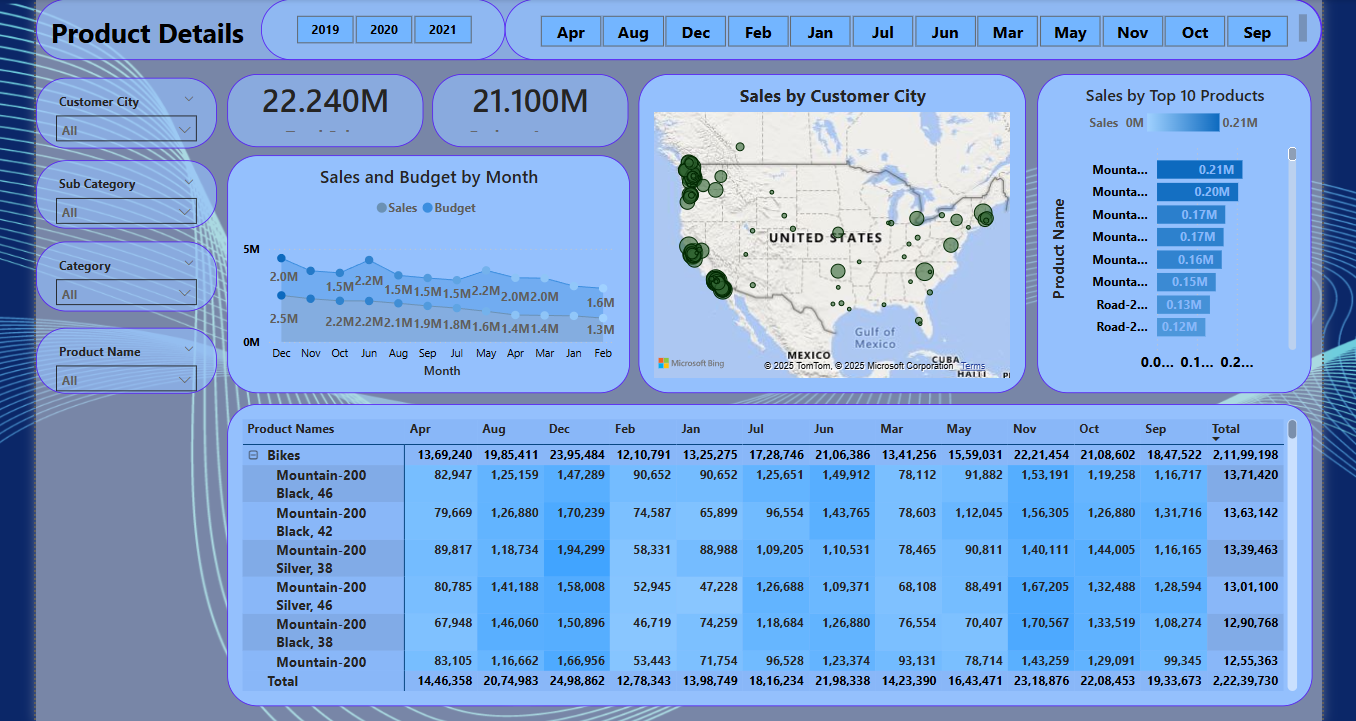

This screenshot's page, from the dashboard's own definition file:
{"tool":"powerbi","page":{"name":"Product Details","canvas":[1280,720],"ordinal":2},"visuals":[{"type":"textbox","box":[0,0,1280,61.1],"z":0},{"type":"slicer","fields":{"Values":["DIM_Customer.Customer City"]},"box":[0,77.8,179.6,70.6],"z":1000},{"type":"slicer","fields":{"Values":["DIM_Products.Sub Category"]},"box":[0,160.4,179.6,68.3],"z":2000},{"type":"slicer","fields":{"Values":["DIM_Products.Product Category"]},"box":[0,241.9,179.6,69.4],"z":3000},{"type":"slicer","fields":{"Values":["DIM_Products.Product Name"]},"box":[0,326.9,179.6,65.9],"z":4000},{"type":"slicer","fields":{"Values":["Dim_Date_Excel.Year"]},"box":[223.9,0,243.1,61.1],"z":5000},{"type":"slicer","fields":{"Values":["Dim_Date_Excel.MonthShort"]},"box":[467,0,813,61.1],"z":6000},{"type":"barChart","title":"Sales by Top 10 Products","fields":{"Y":["Key Measures.Sales"],"Category":["DIM_Products.Product Name"]},"box":[996.6,74.9,272.9,317.4],"z":7000},{"type":"pivotTable","fields":{"Values":["Key Measures.Sales"],"Columns":["Dim_Date_Excel.MonthShort"],"Rows":["DIM_Products.Product Category","DIM_Products.Product Name"]},"box":[189.7,402.9,1079.7,301],"z":8000},{"type":"card","title":"Total Sales","fields":{"Values":["Key Measures.Sales"]},"box":[189.7,74.9,195.6,72.6],"z":9000},{"type":"card","title":"Total Sales","fields":{"Values":["Key Measures.Budget_Amount"]},"box":[394.7,74.9,195.6,72.6],"z":10000},{"type":"stackedAreaChart","fields":{"Category":["Dim_Date_Excel.MonthShort"],"Y":["Key Measures.Sales","Key Measures.Budget_Amount"]},"box":[189.7,155.8,400.5,236.6],"z":11000},{"type":"map","fields":{"Category":["DIM_Customer.Customer City"],"Size":["Key Measures.Sales"]},"box":[599.6,74.9,385.3,317.4],"z":12000}]}

Visuals, with their boxes on the page's 1280x720 design canvas (x1, y1, x2, y2). These are canvas units, not pixel positions in the 1356x721 screenshot, which may show the page scaled, cropped or inside an application window:
textbox: 0,0,1280,61
slicer - DIM_Customer.Customer City: 0,78,180,148
slicer - DIM_Products.Sub Category: 0,160,180,229
slicer - DIM_Products.Product Category: 0,242,180,311
slicer - DIM_Products.Product Name: 0,327,180,393
slicer - Dim_Date_Excel.Year: 224,0,467,61
slicer - Dim_Date_Excel.MonthShort: 467,0,1280,61
"Sales by Top 10 Products" barChart: 997,75,1270,392
pivotTable - Key Measures.Sales x Dim_Date_Excel.MonthShort: 190,403,1269,704
"Total Sales" card: 190,75,385,148
"Total Sales" card: 395,75,590,148
stackedAreaChart - Dim_Date_Excel.MonthShort x Key Measures.Sales: 190,156,590,392
map - DIM_Customer.Customer City x Key Measures.Sales: 600,75,985,392
